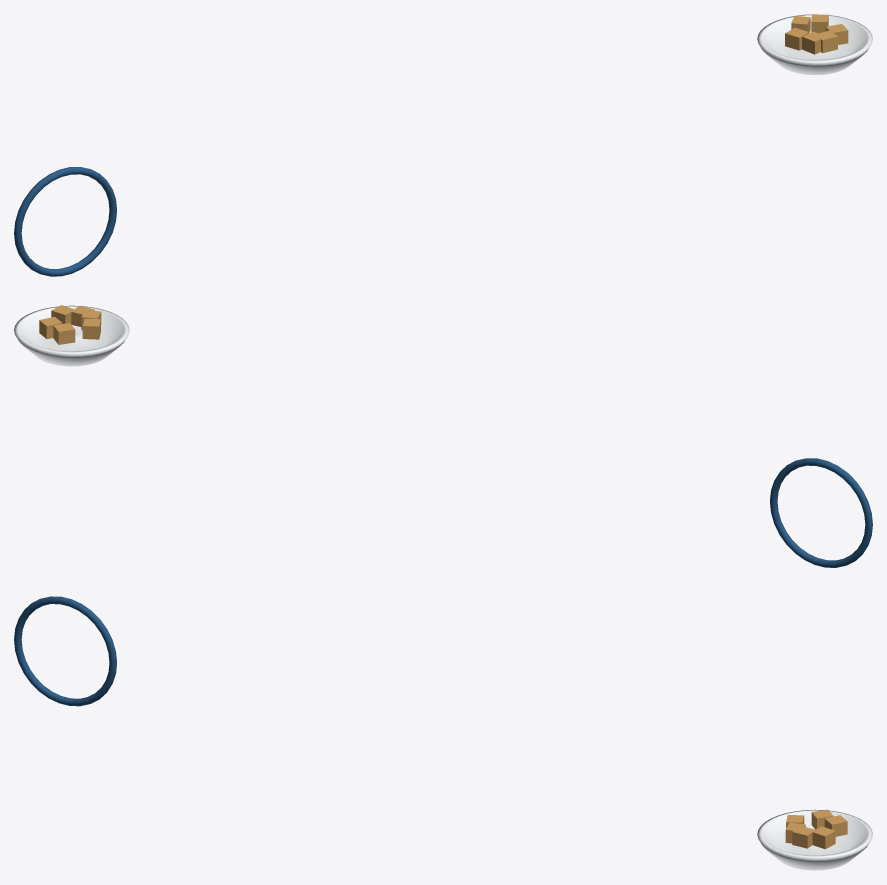
File: wok_food_bowl_chicken.glb
3 renders of one model, top to bottom at view 1: azimuth 30°, elevation 25°; view 2: azimuth 150°, elevation 25°; view 3: azimuth 330°, elevation 25°, orthographic.
Size of the model in its own units: 1.78 by 0.2128 by 0.21.
